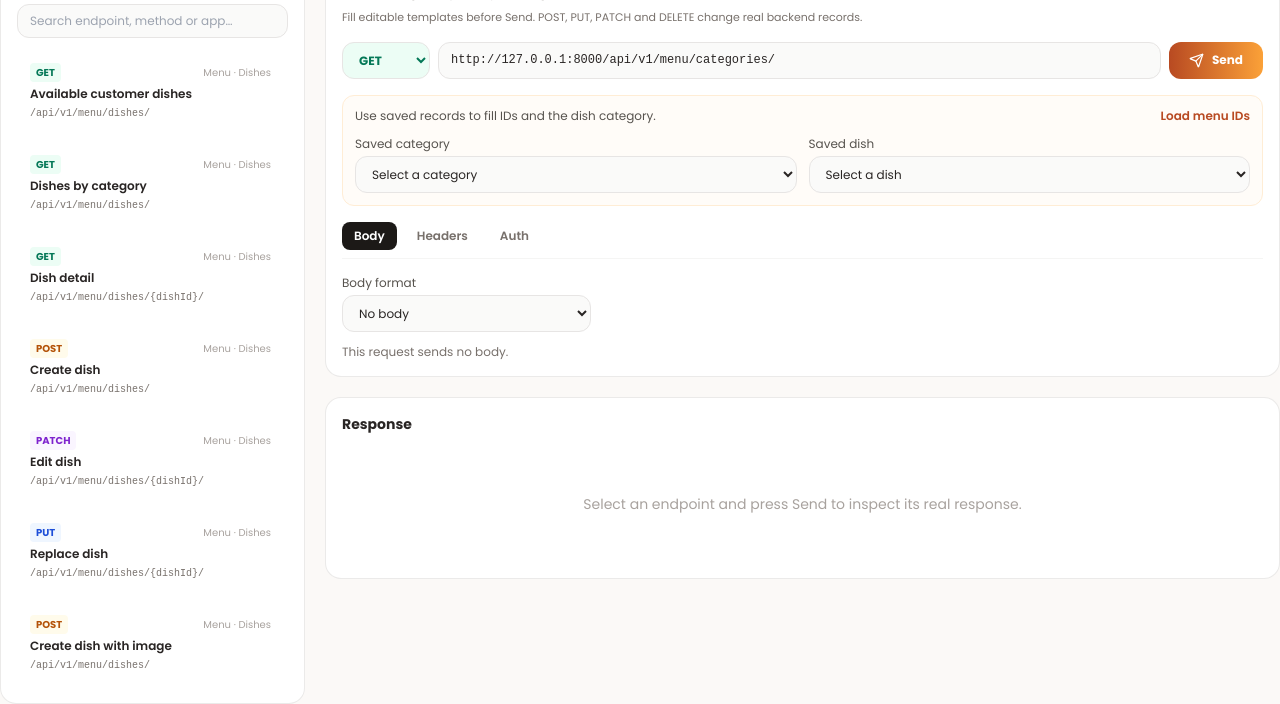
admin API tester › loads real category/dish IDs into controls and fills the dish category property
(page scrolled)
Click the button "Create dish" at (49, 348), box [17,326,284,410]
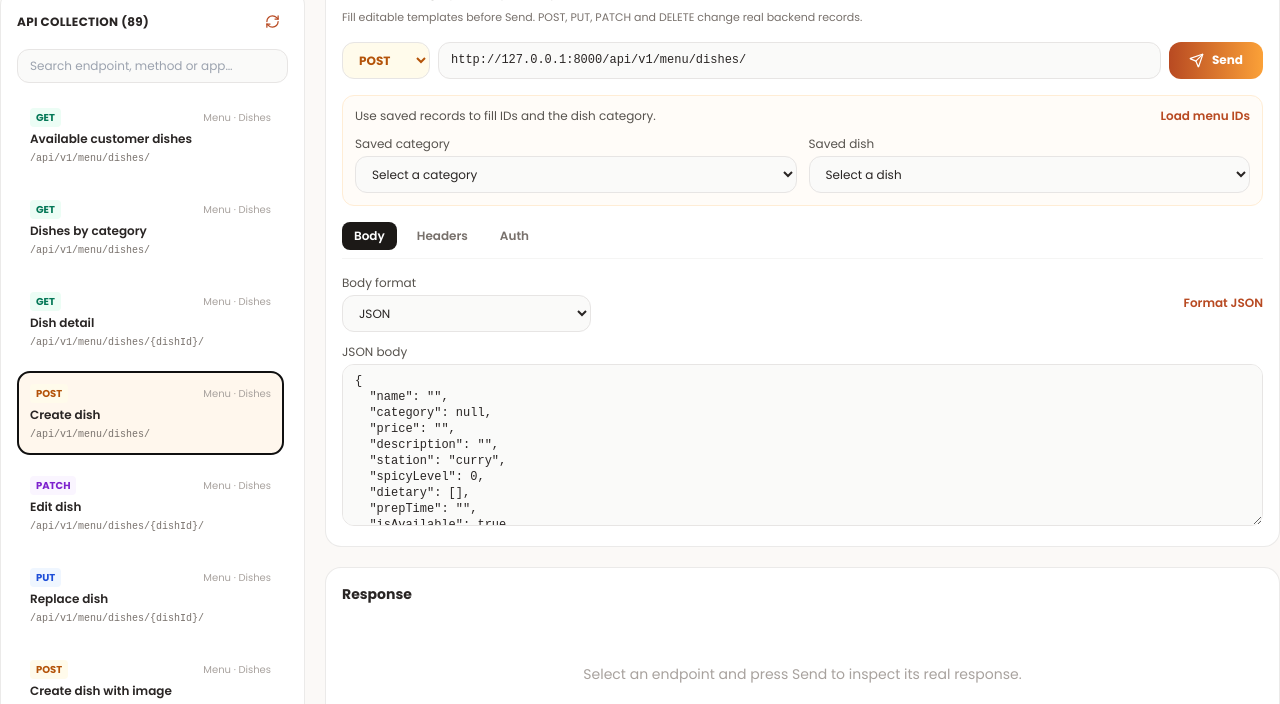
Click the button "Load menu IDs" at (1205, 116), box [1160,108,1250,124]
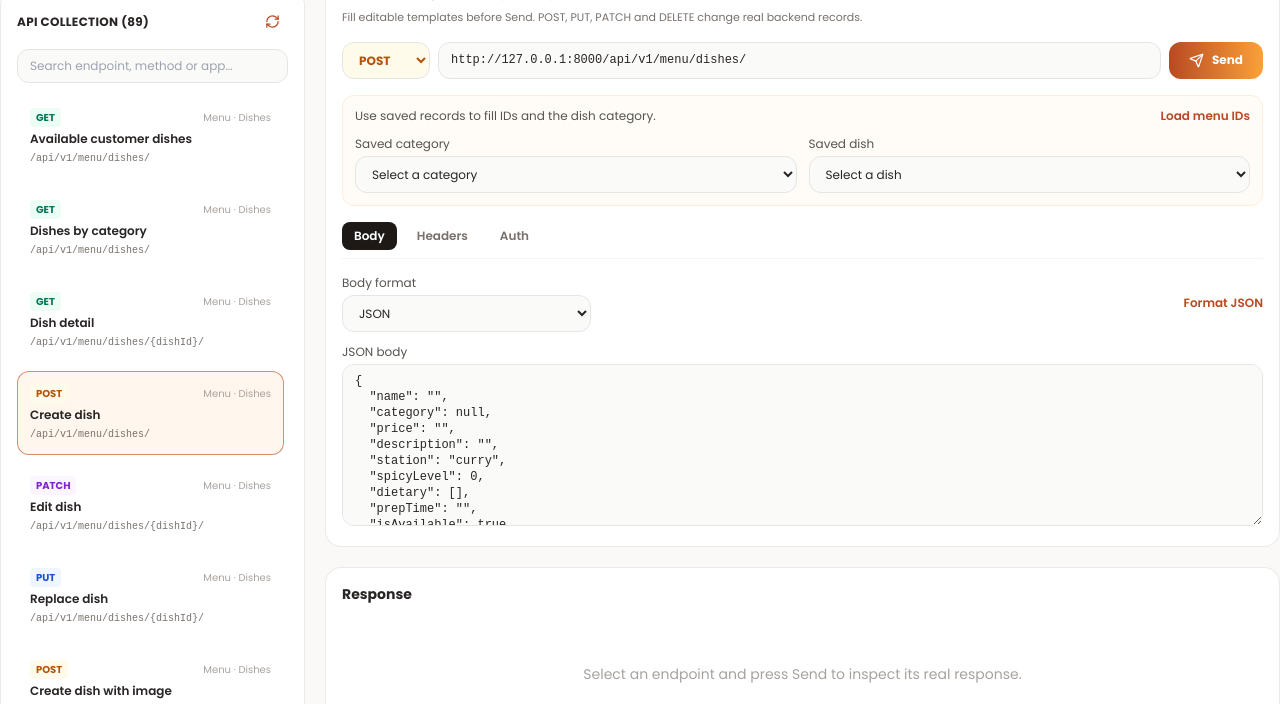
Select "13 · Saved category" in the dropdown labelled "Saved category" at (576, 174), box [355,156,796,192]
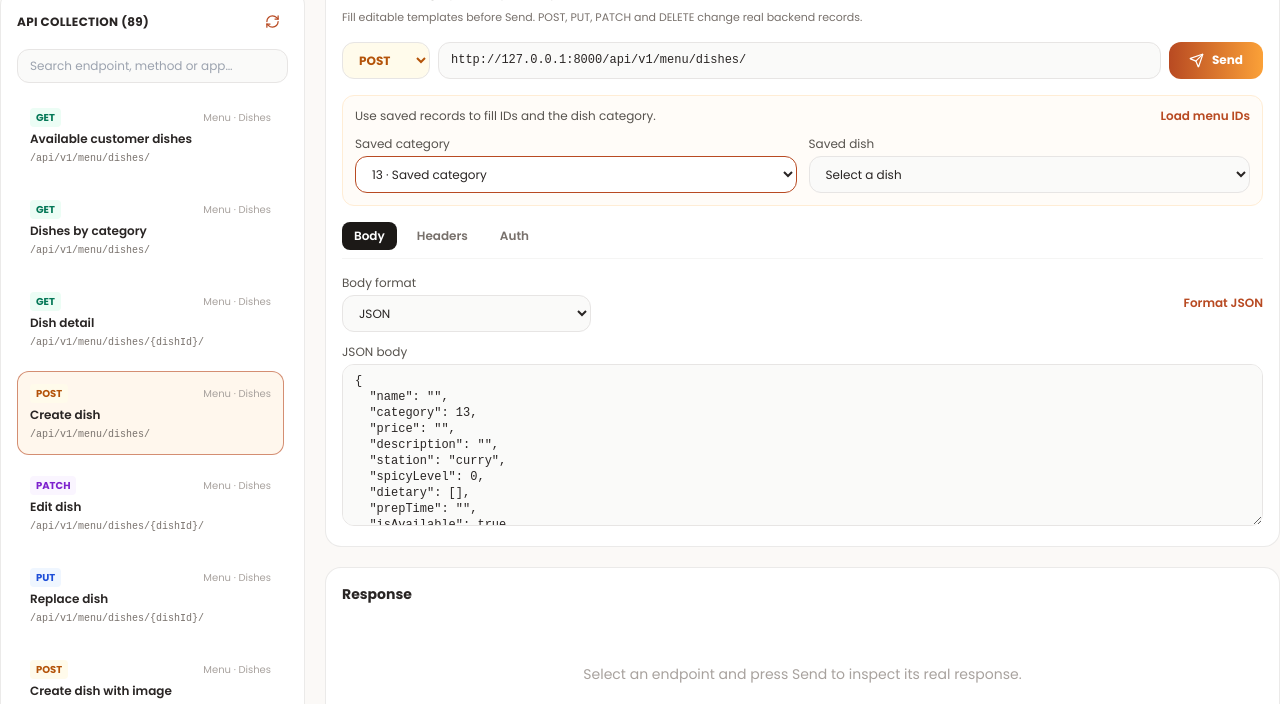
Select "69 · Fresh Dish" in the dropdown labelled "Saved dish" at (1029, 174), box [808,156,1250,192]
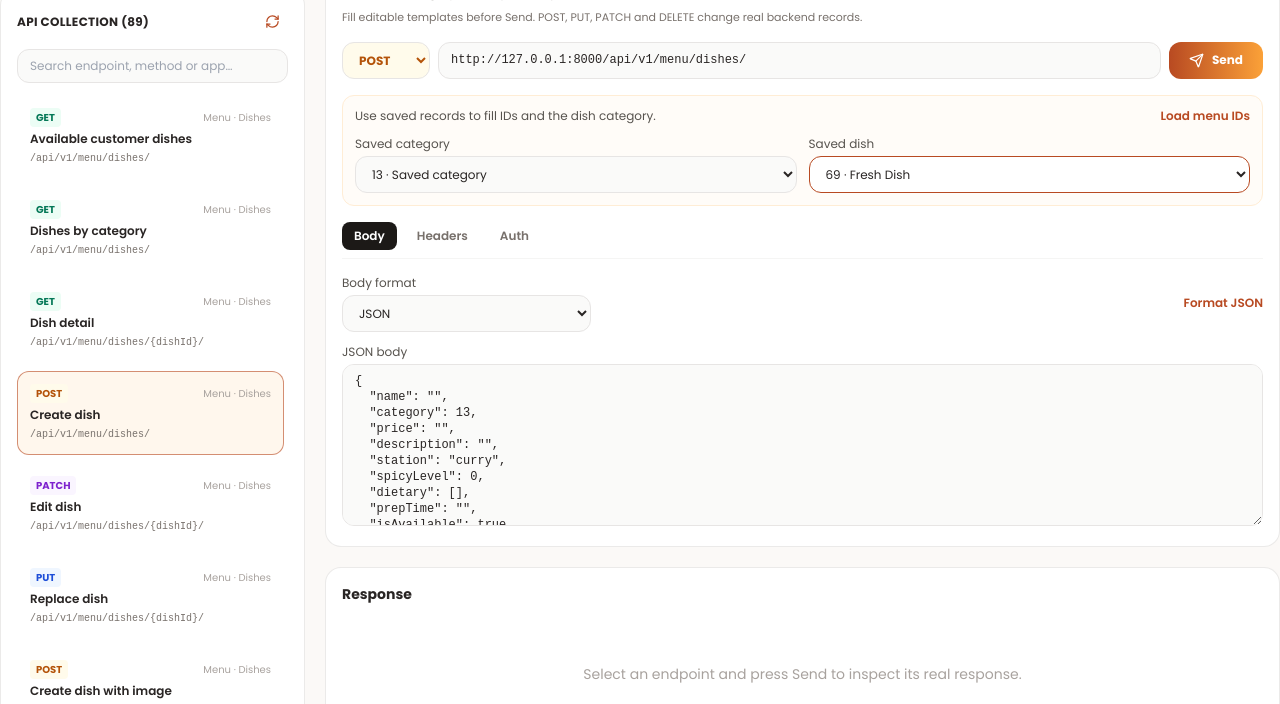
Click the button "Edit dish" at (53, 485), box [17,462,284,546]
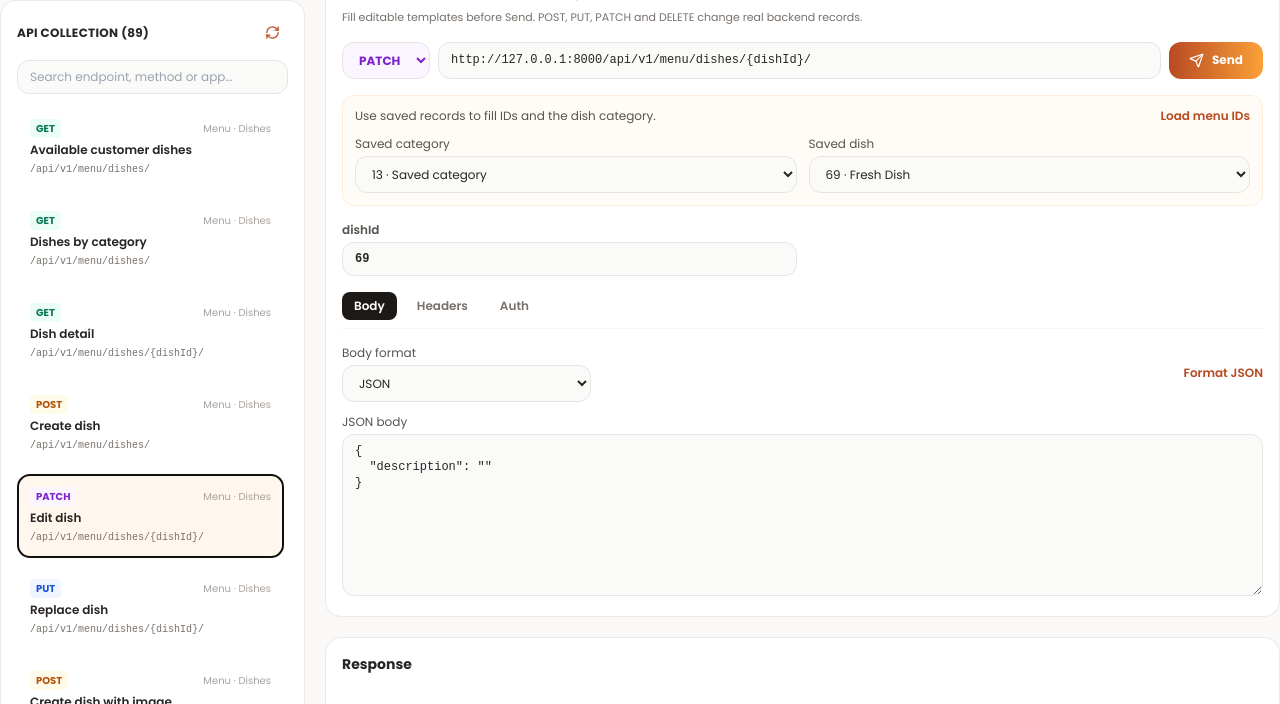
Result: the field labelled "dishId" holds "69" at [342,242,796,276]
